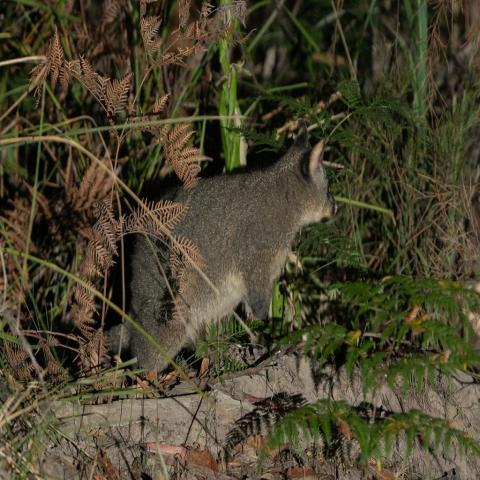small_animal: (100, 117, 340, 378)
